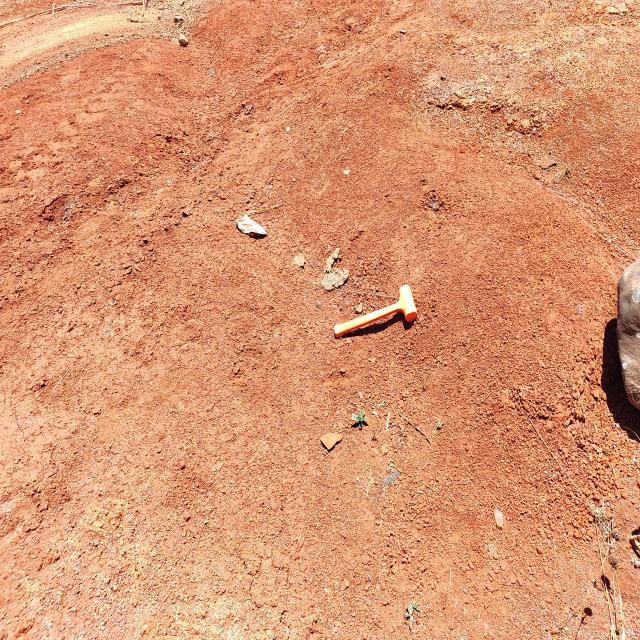Orange_hammer: (333, 283, 418, 339)
